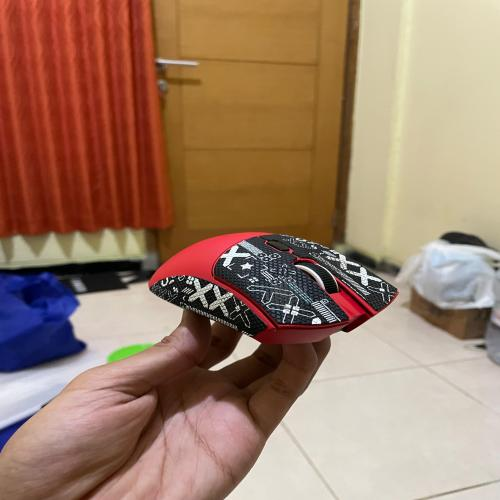mouse: (143, 223, 414, 353)
